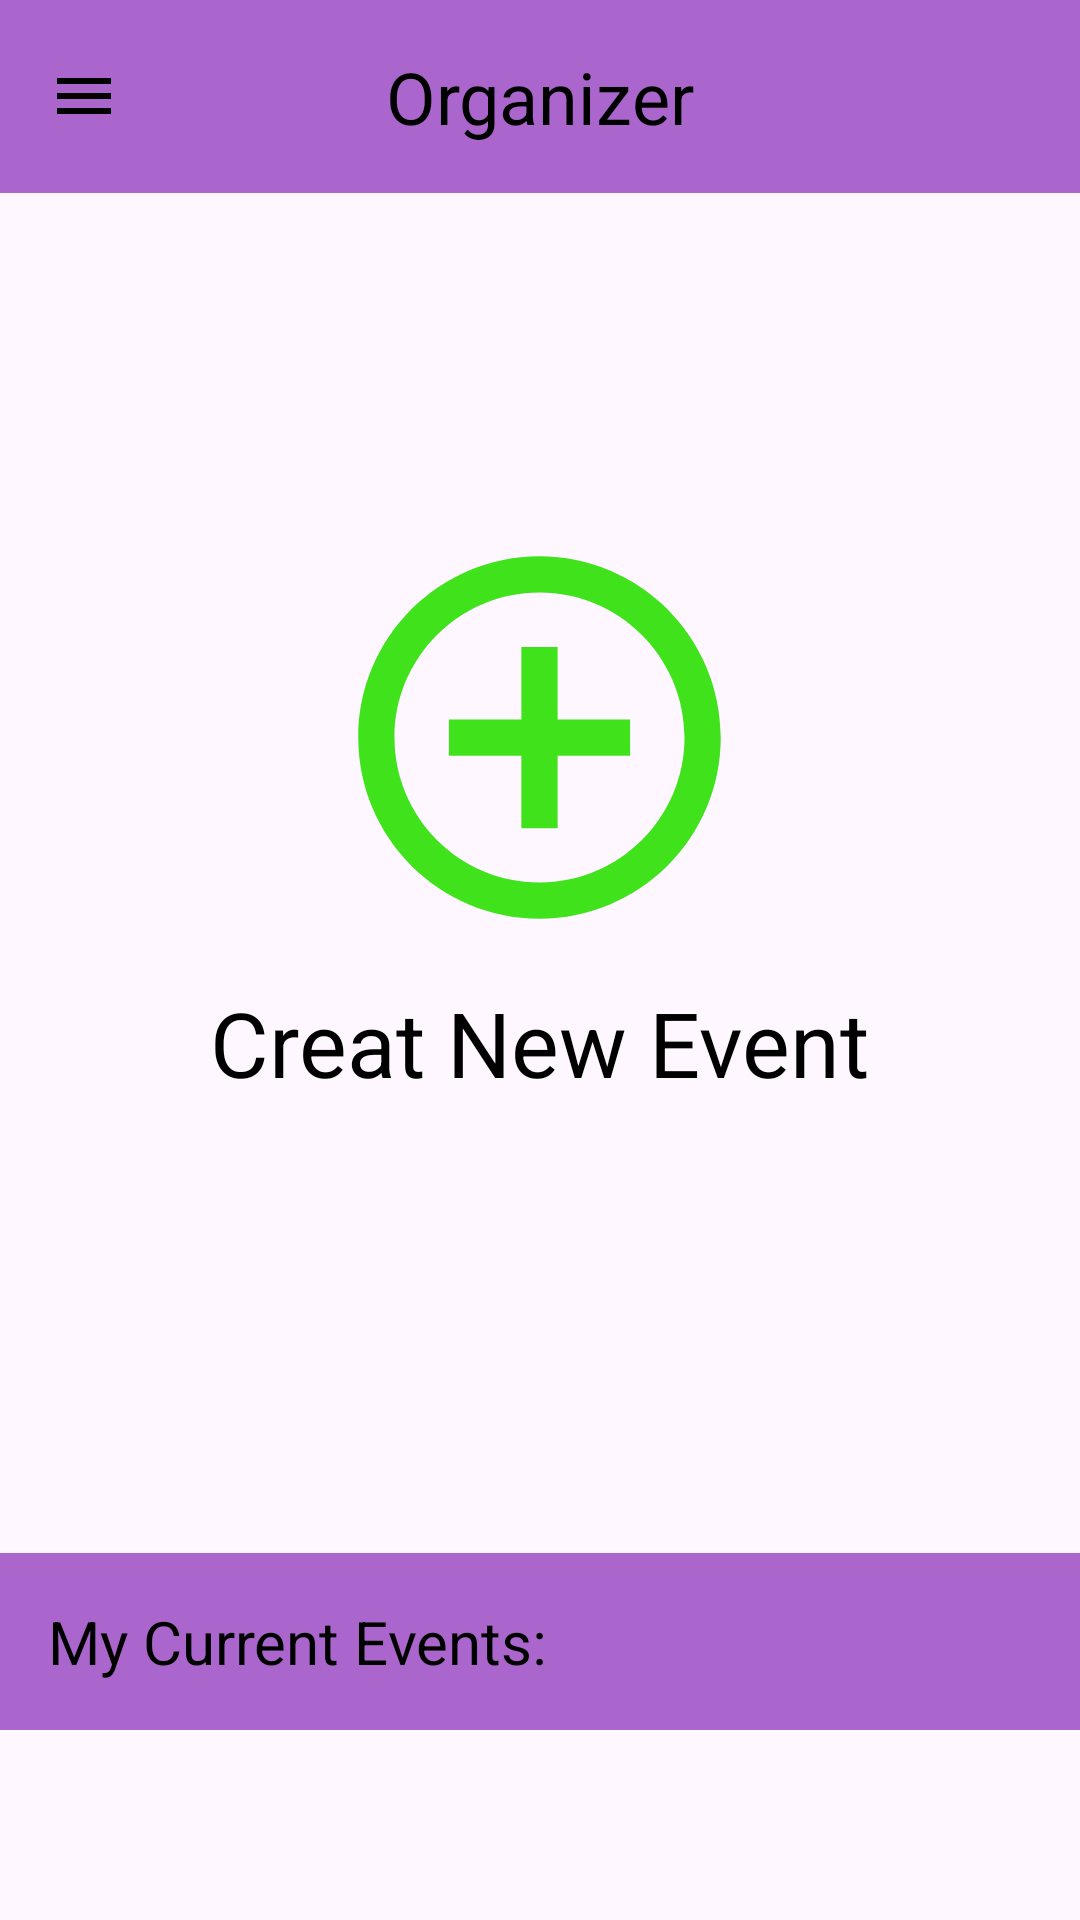

Where to tap for icons on this 1080*1920 app screen, as point (x, y):
menu: point (84, 96)
